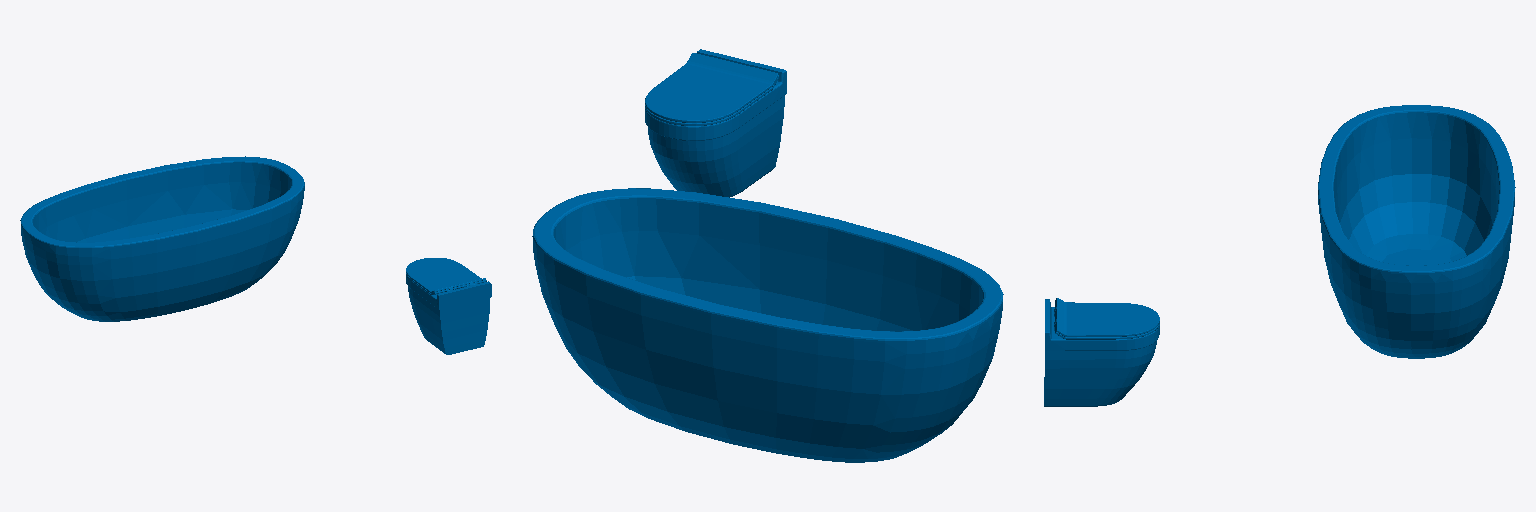
robot.urdf — bathroom:
<?xml version="0.0" ?>
<robot name="bathroom">
  <link name="baseLink">
    <contact>
      <lateral_friction value="1.0"/>
      <rolling_friction value="0.0"/>
      <contact_cfm value="0.0"/>
      <contact_erp value="1.0"/>
    </contact>
    <inertial>
      <origin rpy="1.57 0 0" xyz="0.0 0.0 0.0"/>
       <mass value=".1"/>
       <inertia ixx="1" ixy="0" ixz="0" iyy="1" iyz="0" izz="1"/>
    </inertial>
    <visual>
      <origin rpy="1.57 0 0" xyz="0 0 0.0"/>
      <geometry>
        <mesh filename="meshes/bathroom/wall2.obj" />
      </geometry>

    </visual>
    <collision>
      <origin rpy="1.57 0 0" xyz="0 0 0.0"/>
      <geometry>
	 	<mesh filename="meshes/bathroom/wall2.obj" />
      </geometry>
    </collision>
  </link>

  <joint name="wall1" type="fixed">
    <origin rpy="0 0 3.1415" xyz="2.61 1.7 1.1"/>
    <parent link="baseLink"/>
    <child link="wall1"/>
  </joint>
    <link name="wall1">
    <contact>
      <lateral_friction value="1.0"/>
      <rolling_friction value="0.0"/>
      <contact_cfm value="0.0"/>
      <contact_erp value="1.0"/>
    </contact>
    <inertial>
      <origin rpy="1.57 0 0" xyz="0.0 0.0 0."/>
       <mass value=".1"/>
       <inertia ixx="1" ixy="0" ixz="0" iyy="1" iyz="0" izz="1"/>
    </inertial>
    <visual>
      <origin rpy="1.57 0 0" xyz="0 0 0.0"/>
      <geometry>
        <mesh filename="meshes/bathroom/wall1.obj" />
      </geometry>

    </visual>
    <collision>
      <origin rpy="1.57 0 0" xyz="0 0 0.0"/>
      <geometry>
	 	<mesh filename="meshes/bathroom/wall1.obj" />
      </geometry>
    </collision>
  </link>

    <joint name="washing" type="fixed">
    <origin rpy="0 0 0" xyz="0 0 0"/>
    <parent link="baseLink"/>
    <child link="washing"/>
  </joint>
    <link name="washing">
    <contact>
      <lateral_friction value="1.0"/>
      <rolling_friction value="0.0"/>
      <contact_cfm value="0.0"/>
      <contact_erp value="1.0"/>
    </contact>
    <inertial>
      <origin rpy="1.57 0 0" xyz="0.0 0.0 0.0"/>
       <mass value=".1"/>
       <inertia ixx="1" ixy="0" ixz="0" iyy="1" iyz="0" izz="1"/>
    </inertial>
    <visual>
      <origin rpy="1.57 0 0" xyz="0 0 0.0"/>
      <geometry>
        <mesh filename="meshes/bathroom/washing.obj" />
      </geometry>

    </visual>
    <collision>
      <origin rpy="1.57 0 0" xyz="0 0 0.0"/>
      <geometry>
	 	<mesh filename="meshes/bathroom/washing.obj" />
      </geometry>
    </collision>
  </link>

      <joint name="washing2" type="fixed">
    <origin rpy="0 0 0" xyz="0 0 0"/>
    <parent link="baseLink"/>
    <child link="washing2"/>
  </joint>
    <link name="washing2">
    <contact>
      <lateral_friction value="1.0"/>
      <rolling_friction value="0.0"/>
      <contact_cfm value="0.0"/>
      <contact_erp value="1.0"/>
    </contact>
    <inertial>
      <origin rpy="1.57 0 0" xyz="0.0 0.0 0.0"/>
       <mass value=".1"/>
       <inertia ixx="1" ixy="0" ixz="0" iyy="1" iyz="0" izz="1"/>
    </inertial>
    <visual>
      <origin rpy="1.57 0 0" xyz="0 0 0.0"/>
      <geometry>
        <mesh filename="meshes/bathroom/washing2.obj" />
      </geometry>

    </visual>
    <collision>
      <origin rpy="1.57 0 0" xyz="0 0 0.0"/>
      <geometry>
	 	<mesh filename="meshes/bathroom/washing2.obj" />
      </geometry>
    </collision>
  </link>



        <joint name="bath_toilet" type="fixed">
    <origin rpy="0 0 0" xyz="0. 0. 0"/>
    <parent link="baseLink"/>
    <child link="bath_toilet"/>
  </joint>
    <link name="bath_toilet">
    <contact>
      <lateral_friction value="1.0"/>
      <rolling_friction value="0.0"/>
      <contact_cfm value="0.0"/>
      <contact_erp value="1.0"/>
    </contact>
    <inertial>
      <origin rpy="1.57 0 0" xyz="0.0 0.0 0.0"/>
       <mass value=".1"/>
       <inertia ixx="1" ixy="0" ixz="0" iyy="1" iyz="0" izz="1"/>
    </inertial>
    <visual>
      <origin rpy="1.57 0 0" xyz="0 0 0.0"/>
      <geometry>
        <mesh filename="meshes/bathroom/bath_toilet.obj" />
      </geometry>

    </visual>
    <collision>
      <origin rpy="1.57 0 0" xyz="0 0 0.0"/>
      <geometry>
	 	<mesh filename="meshes/bathroom/bath_toilet.obj" />
      </geometry>
    </collision>
  </link>



          <joint name="taps" type="fixed">
    <origin rpy="0 0 0" xyz="0. 0. 0"/>
    <parent link="baseLink"/>
    <child link="taps"/>
  </joint>
    <link name="taps">
    <contact>
      <lateral_friction value="1.0"/>
      <rolling_friction value="0.0"/>
      <contact_cfm value="0.0"/>
      <contact_erp value="1.0"/>
    </contact>
    <inertial>
      <origin rpy="1.57 0 0" xyz="0.0 0.0 0.0"/>
       <mass value=".1"/>
       <inertia ixx="1" ixy="0" ixz="0" iyy="1" iyz="0" izz="1"/>
    </inertial>
    <visual>
      <origin rpy="1.57 0 0" xyz="0 0 0.0"/>
      <geometry>
        <mesh filename="meshes/bathroom/taps.obj" />
      </geometry>

    </visual>
    <collision>
      <origin rpy="1.57 0 0" xyz="0 0 0.0"/>
      <geometry>
	 	<mesh filename="meshes/bathroom/taps.obj" />
      </geometry>
    </collision>
  </link>


          <joint name="objs" type="fixed">
    <origin rpy="0 0 0" xyz="0. 0. 0"/>
    <parent link="baseLink"/>
    <child link="objs"/>
  </joint>
    <link name="objs">
    <contact>
      <lateral_friction value="1.0"/>
      <rolling_friction value="0.0"/>
      <contact_cfm value="0.0"/>
      <contact_erp value="1.0"/>
    </contact>
    <inertial>
      <origin rpy="1.57 0 0" xyz="0.0 0.0 0.0"/>
       <mass value=".1"/>
       <inertia ixx="1" ixy="0" ixz="0" iyy="1" iyz="0" izz="1"/>
    </inertial>
    <visual>
      <origin rpy="1.57 0 0" xyz="0 0 0.0"/>
      <geometry>
        <mesh filename="meshes/bathroom/objs.obj" />
      </geometry>

    </visual>
    <collision>
      <origin rpy="1.57 0 0" xyz="0 0 0.0"/>
      <geometry>
	 	<mesh filename="meshes/bathroom/objs.obj" />
      </geometry>
    </collision>
  </link>

          <joint name="objs2" type="fixed">
    <origin rpy="0 0 0" xyz="0. 0. 0"/>
    <parent link="baseLink"/>
    <child link="objs2"/>
  </joint>
    <link name="objs2">
    <contact>
      <lateral_friction value="1.0"/>
      <rolling_friction value="0.0"/>
      <contact_cfm value="0.0"/>
      <contact_erp value="1.0"/>
    </contact>
    <inertial>
      <origin rpy="1.57 0 0" xyz="0.0 0.0 0.0"/>
       <mass value=".1"/>
       <inertia ixx="1" ixy="0" ixz="0" iyy="1" iyz="0" izz="1"/>
    </inertial>
    <visual>
      <origin rpy="1.57 0 0" xyz="0 0 0.0"/>
      <geometry>
        <mesh filename="meshes/bathroom/objs2.obj" />
      </geometry>

    </visual>
    <collision>
      <origin rpy="1.57 0 0" xyz="0 0 0.0"/>
      <geometry>
	 	<mesh filename="meshes/bathroom/objs2.obj" />
      </geometry>
    </collision>
  </link>



</robot>

--- What the picture shows (computed from the rendered views, not written in the file) ---
Views: 3 orthographic renders of the robot side by side, from view 1: azimuth 30°, elevation 25°; view 2: azimuth 150°, elevation 25°; view 3: azimuth 270°, elevation 25°.
Robot: bathroom — 8 links, 7 joints (7 fixed); root link baseLink; default pose: every joint at zero.
Visible links, largest first — view 1: bath_toilet; view 2: bath_toilet; view 3: bath_toilet.
Link boxes in pixels (x1,y1,x2,y2): bath_toilet: [20, 156, 491, 354]; bath_toilet: [532, 49, 1003, 462]; bath_toilet: [1044, 105, 1515, 406].
Bounding box of the posed robot: 2.15 × 2.14 × 0.582 m (x, y, z).
1 mesh visuals loaded from 8 distinct referenced files (1 OBJ); not drawn: 7 (reference not matched to a file when rendering).